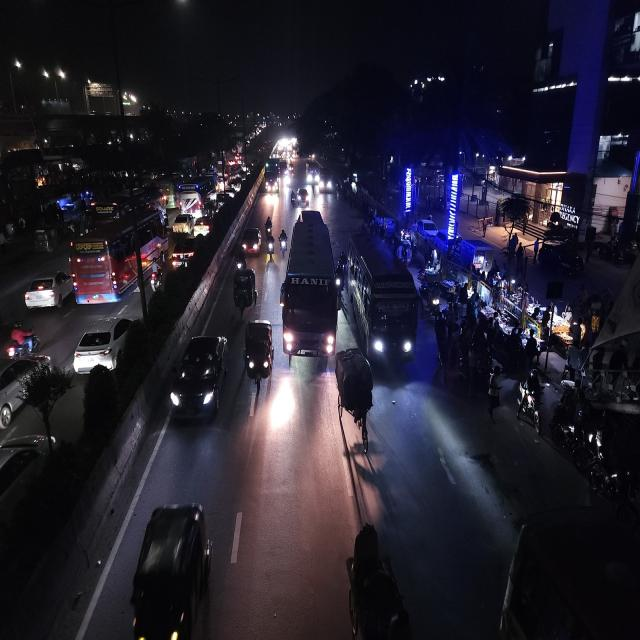bus: (494, 507, 640, 640), (348, 232, 422, 368), (70, 202, 166, 306), (280, 208, 342, 368), (176, 180, 204, 212), (318, 165, 334, 196), (305, 161, 318, 188)
car: (0, 426, 59, 584), (168, 330, 230, 428), (0, 350, 56, 429), (70, 313, 138, 377), (22, 268, 72, 316), (170, 231, 207, 271), (240, 224, 262, 259), (194, 215, 215, 236), (297, 186, 310, 208)
cng: (124, 498, 216, 640), (240, 315, 276, 396), (230, 265, 258, 317), (32, 225, 56, 254)
motorcycle: (548, 404, 581, 455), (6, 322, 40, 357), (336, 248, 348, 302), (149, 263, 164, 294), (264, 214, 274, 253), (265, 228, 275, 264), (278, 227, 288, 257), (290, 189, 298, 210)
pedestrian: (485, 367, 503, 420)
rickshaw: (342, 518, 415, 640), (335, 345, 377, 441), (32, 224, 55, 254)
truck: (264, 157, 282, 196), (264, 157, 282, 195)
